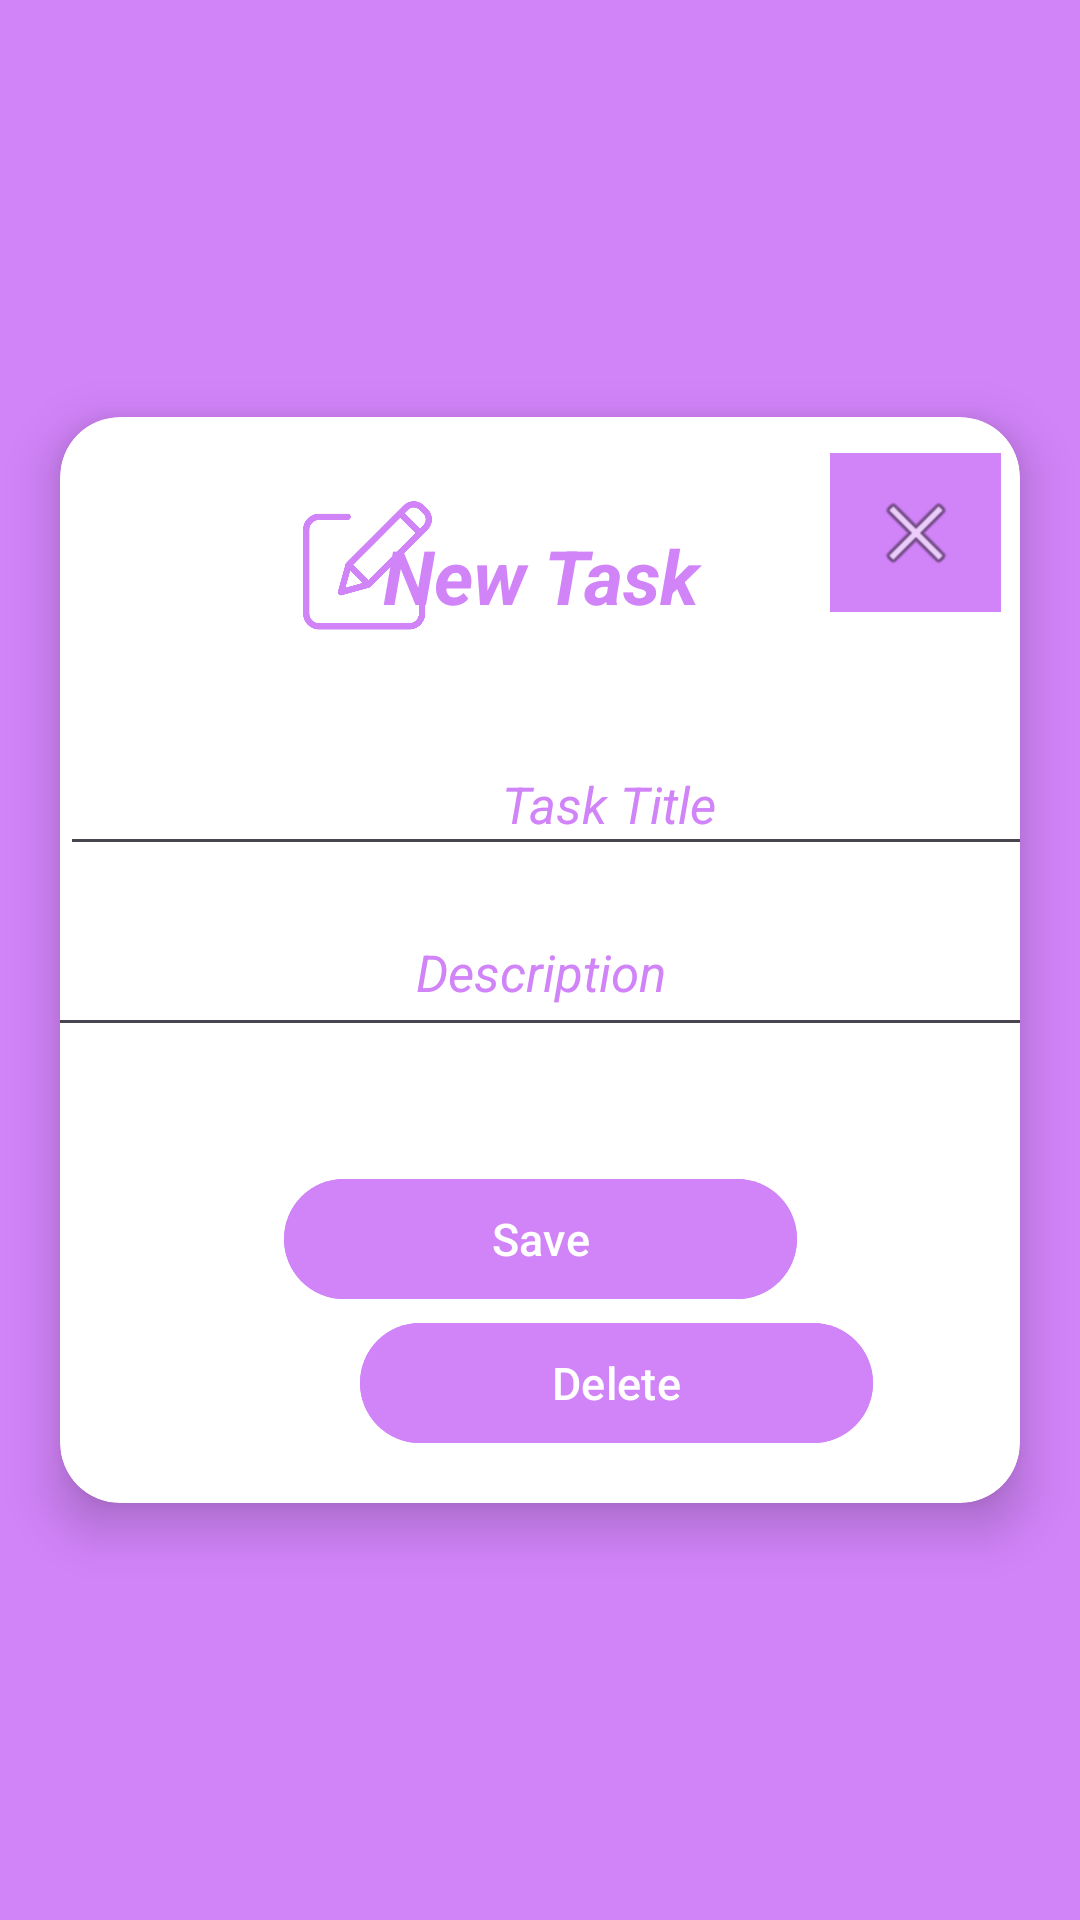

Named icons in this screenshot (1080×1920) and their centers, (x=x, y=y):
close clear cancel: (x=915, y=532)
edit: (x=369, y=565)
